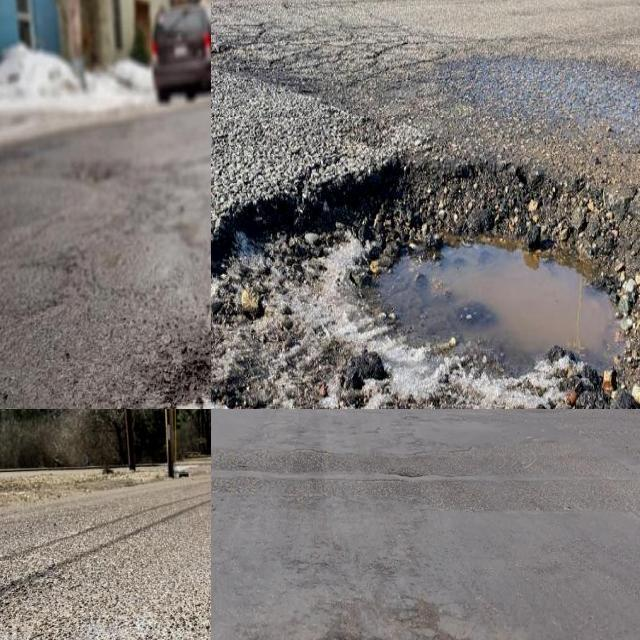Pothole: (211, 158, 640, 409)
